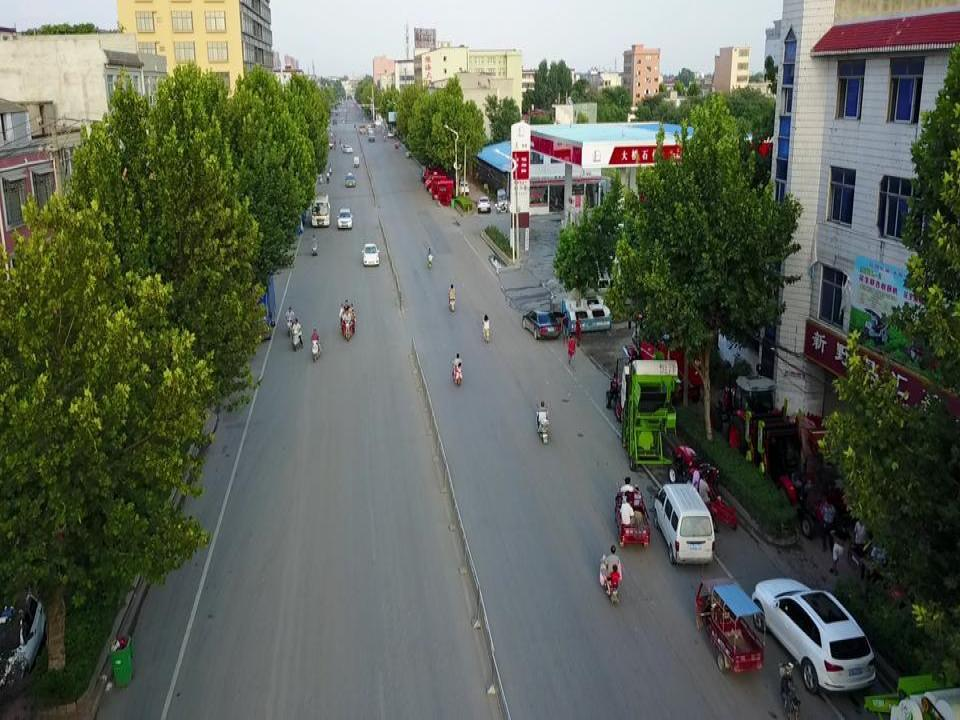car: (752, 577, 877, 695), (0, 588, 51, 705), (521, 310, 561, 342), (361, 243, 380, 266), (336, 207, 353, 229), (477, 196, 491, 213), (344, 172, 356, 188), (458, 180, 470, 195), (341, 144, 353, 155), (367, 128, 375, 143), (358, 124, 366, 135), (386, 130, 394, 138)
truck: (758, 408, 864, 539), (706, 373, 794, 476), (236, 269, 277, 344), (605, 357, 645, 424), (307, 192, 331, 227)
van: (653, 483, 716, 565), (578, 275, 624, 304), (496, 187, 507, 212)
